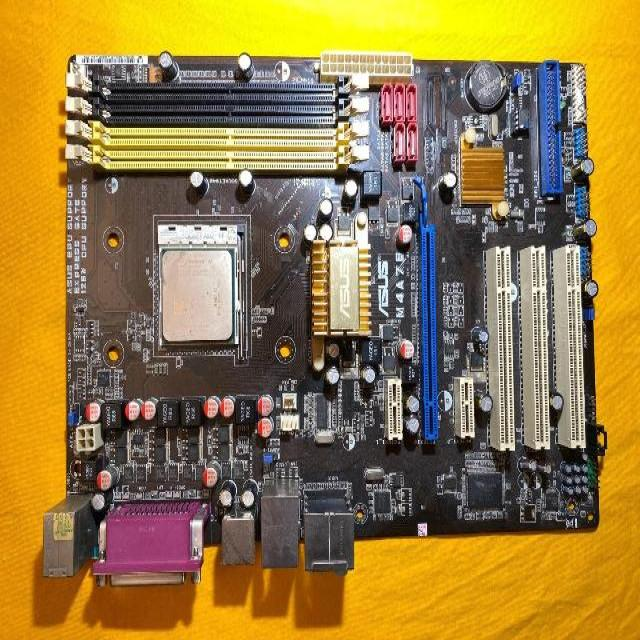CPU: (161, 249, 233, 343)
